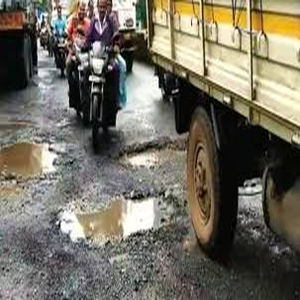pothole: (59, 185, 184, 244), (4, 137, 66, 180), (123, 137, 190, 172)
